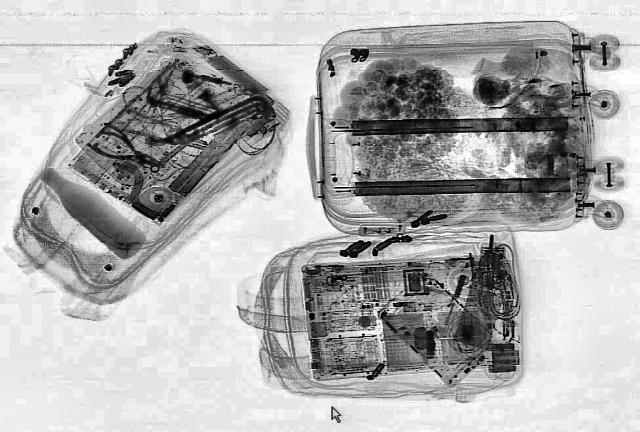Pliers: (80, 127, 172, 175)
